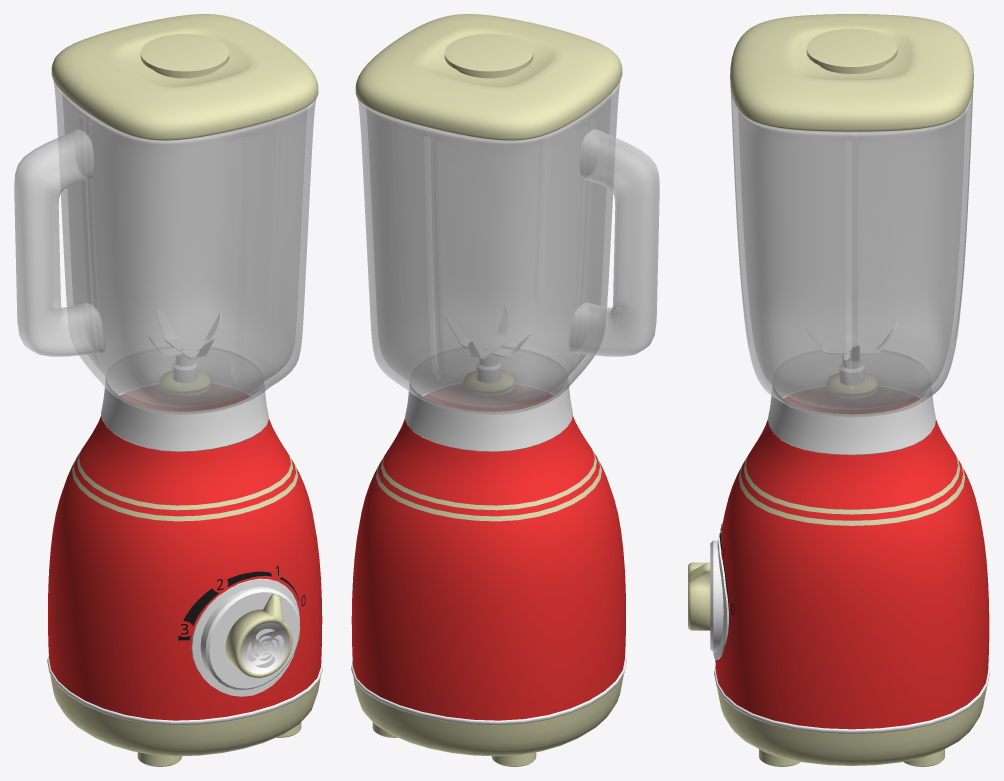
The model's file is low_poly_blender_red.glb.
3 views of the same model, side by side, from view 1: azimuth 30°, elevation 25°; view 2: azimuth 150°, elevation 25°; view 3: azimuth 270°, elevation 25° (orthographic). The views are drawn at different scales.
Parts seen in each view (by area): view 1: Cube.003, Cube.005, Cube.002, Cube.001, Cylinder, Cylinder.004, Cylinder.001, Cylinder.002, Cube.006, Plane.001, Cube.008, Plane.002 (+2 smaller); view 2: Cube.003, Cube.005, Cube.002, Cube.001, Cylinder.001, Cube.006, Cube.008, Cylinder.005, Cylinder.003, Cube.007; view 3: Cube.003, Cube.005, Cube.002, Cylinder.001, Cube.006, Cylinder.004, Cylinder, Cylinder.003, Cylinder.002, Cube.007, Cylinder.005, Cube.008.
Part boxes in pixels (x1,y1,x2,y2): Cube.003: [48, 346, 322, 756]; Cube.005: [53, 81, 316, 414]; Cube.002: [51, 14, 318, 140]; Cube.001: [14, 129, 105, 356]; Cylinder: [200, 586, 300, 689]; Cylinder.004: [225, 594, 292, 677]; Cylinder.001: [140, 34, 229, 78]; Cylinder.002: [191, 578, 299, 696]; Cube.006: [47, 656, 322, 725]; Plane.001: [178, 565, 305, 640]; Cube.008: [155, 308, 214, 358]; Plane.002: [247, 628, 283, 667]; Cube.003: [351, 346, 625, 756]; Cube.005: [357, 81, 620, 414]; Cube.002: [355, 14, 622, 140]; Cube.001: [568, 129, 659, 356]; Cylinder.001: [444, 34, 533, 78]; Cube.006: [351, 656, 626, 725]; Cube.008: [468, 305, 509, 359]; Cylinder.005: [476, 345, 500, 382]; Cylinder.003: [372, 722, 536, 766]; Cube.007: [445, 317, 532, 357]; Cube.003: [715, 350, 989, 765]; Cube.005: [730, 86, 973, 416]; Cube.002: [730, 14, 973, 131]; Cylinder.001: [806, 28, 897, 73]; Cube.006: [714, 666, 989, 733]; Cylinder.004: [688, 562, 710, 630]; Cylinder: [710, 540, 723, 652]; Cylinder.003: [759, 749, 944, 766]; Cylinder.002: [713, 533, 728, 659]; Cube.007: [844, 306, 859, 361]; Cylinder.005: [839, 347, 864, 384]; Cube.008: [805, 321, 898, 354].
Bounding box in the file's own units: 2.47 × 5.56 × 2.23.
5 materials, 1 textured.
